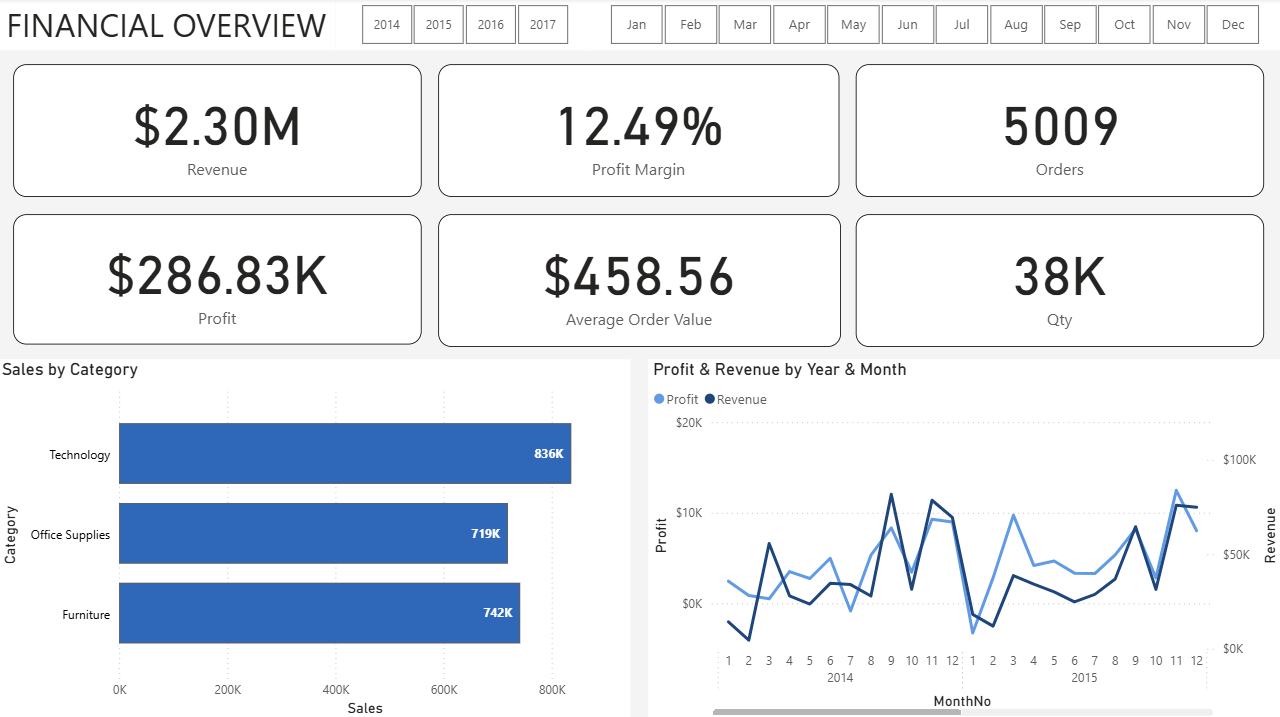

This screenshot's page, from the dashboard's own definition file:
{"tool":"powerbi","page":{"name":"OVERVIEW ","canvas":[1280,720],"ordinal":0},"visuals":[{"type":"card","fields":{"Values":["Measures (2).Orders"]},"box":[854.6,65.9,406.8,131.9],"z":0},{"type":"card","fields":{"Values":["Measures (2).Profit"]},"box":[16.2,215.2,406.8,129.4],"z":1000},{"type":"card","fields":{"Values":["Measures (2).Profit Margin"]},"box":[439.1,65.9,399.3,131.9],"z":2000},{"type":"card","fields":{"Values":["Measures (2).Qty"]},"box":[854.6,215.2,406.8,131.9],"z":3000},{"type":"card","fields":{"Values":["Measures (2).Revenue"]},"box":[16.2,65.9,406.8,131.9],"z":4000},{"type":"card","fields":{"Values":["Measures (2).Average Order Value"]},"box":[439.1,215.2,400.6,131.9],"z":5000},{"type":"lineChart","title":"Profit & Revenue by Year & Month","fields":{"Category":["Date.Date Hierarchy.Year","Date.Date Hierarchy.MonthNo","Date.Date Hierarchy.MonthName"],"Y2":["Measures (2).Revenue"],"Y":["Measures (2).Profit"]},"box":[648.1,359.5,631.9,360.7],"z":6000},{"type":"slicer","fields":{"Values":["Date.Date Hierarchy.Year"]},"box":[337.1,0,255,52.2],"z":7000},{"type":"barChart","title":"Sales by Category","fields":{"Category":["vw_CleanSuperstoreBI.Category"],"Y":["Sum(vw_CleanSuperstoreBI.Sales)"]},"box":[0,359.5,630.7,360.7],"z":8000},{"type":"textbox","box":[0,0,337.1,52.2],"z":9000},{"type":"slicer","fields":{"Values":["Date.MonthName"]},"box":[584.7,0,695.4,52.2],"z":10000}]}

Visuals, with their boxes in screenshot pixels (x1, y1, x2, y2), scaled from the page's 1280x720 canvas onto the 1280x717 screenshot:
card - Measures (2).Orders: {"left": 855, "top": 66, "right": 1261, "bottom": 197}
card - Measures (2).Profit: {"left": 16, "top": 214, "right": 423, "bottom": 343}
card - Measures (2).Profit Margin: {"left": 439, "top": 66, "right": 838, "bottom": 197}
card - Measures (2).Qty: {"left": 855, "top": 214, "right": 1261, "bottom": 346}
card - Measures (2).Revenue: {"left": 16, "top": 66, "right": 423, "bottom": 197}
card - Measures (2).Average Order Value: {"left": 439, "top": 214, "right": 840, "bottom": 346}
"Profit & Revenue by Year & Month" lineChart: {"left": 648, "top": 358, "right": 1279, "bottom": 716}
slicer - Date.Date Hierarchy.Year: {"left": 337, "top": 0, "right": 592, "bottom": 52}
"Sales by Category" barChart: {"left": 0, "top": 358, "right": 631, "bottom": 716}
textbox: {"left": 0, "top": 0, "right": 337, "bottom": 52}
slicer - Date.MonthName: {"left": 585, "top": 0, "right": 1279, "bottom": 52}
